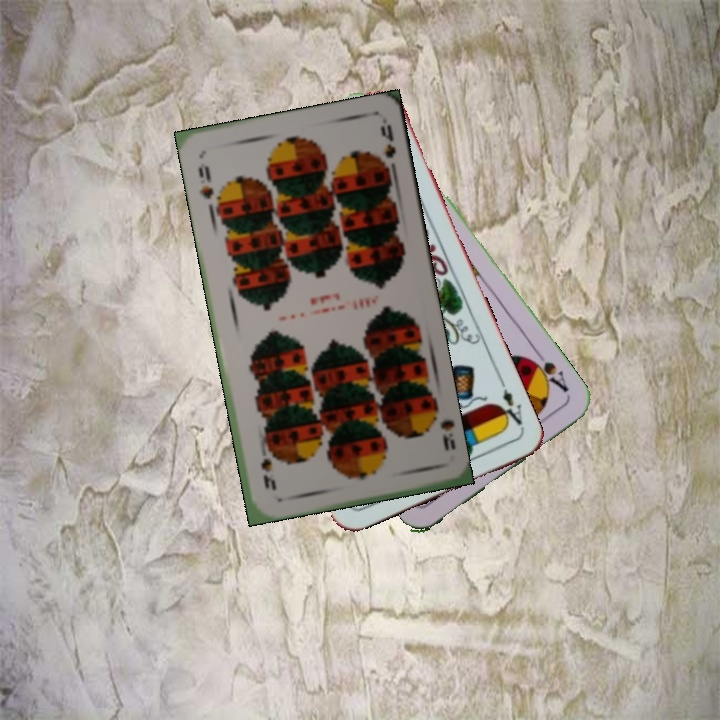EA: (494, 376, 527, 433)
S9: (426, 403, 458, 454), (194, 158, 216, 202)
SA: (524, 347, 572, 395)
